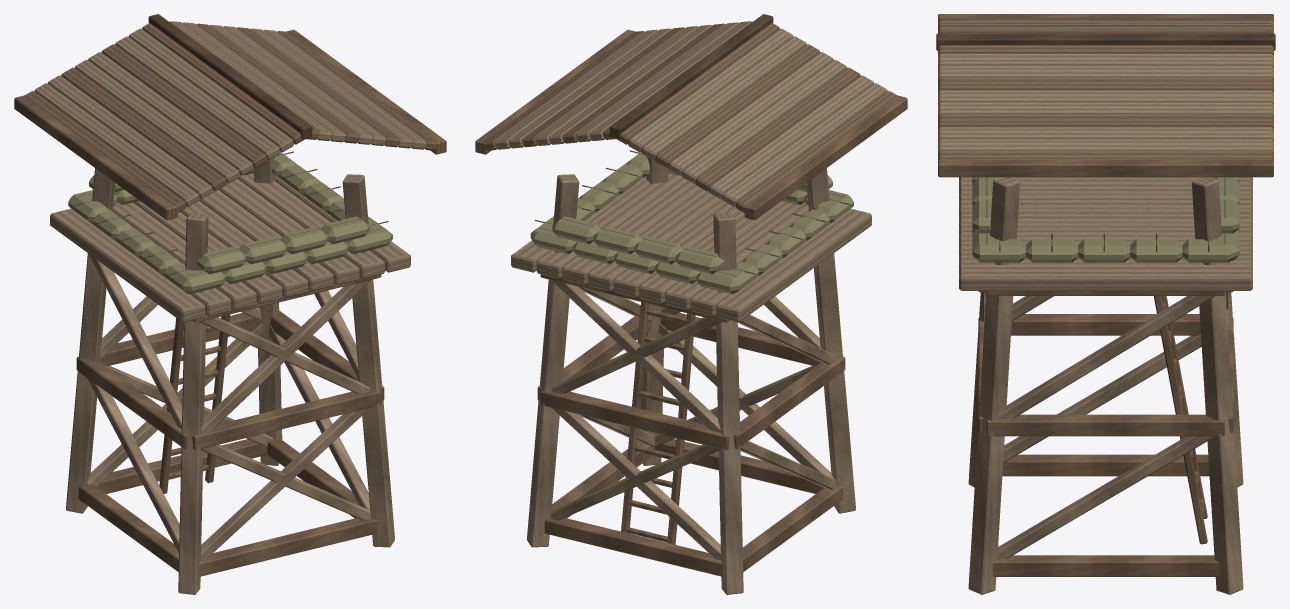
File: watchtower.glb
The picture shows the model from 3 angles, left to right: view 1: azimuth 30°, elevation 25°; view 2: azimuth 150°, elevation 25°; view 3: azimuth 270°, elevation 25°; orthographic projection. The views are drawn at different scales.
Parts seen in each view (by area): view 1: watchtower__Timber_worn_edges, watchtower__Weathered_timber, watchtower__Olive_canvas, watchtower__Dark_endgrain; view 2: watchtower__Timber_worn_edges, watchtower__Weathered_timber, watchtower__Olive_canvas, watchtower__Dark_endgrain; view 3: watchtower__Timber_worn_edges, watchtower__Weathered_timber, watchtower__Olive_canvas, watchtower__Dark_endgrain.
Boxes of the visible parts, box(x1,y1,x2,y2) form: watchtower__Timber_worn_edges: box(34, 21, 426, 594); watchtower__Weathered_timber: box(14, 23, 446, 576); watchtower__Olive_canvas: box(68, 152, 392, 294); watchtower__Dark_endgrain: box(73, 14, 388, 276); watchtower__Timber_worn_edges: box(495, 21, 887, 594); watchtower__Weathered_timber: box(475, 23, 907, 576); watchtower__Olive_canvas: box(530, 152, 853, 294); watchtower__Dark_endgrain: box(534, 14, 849, 276); watchtower__Timber_worn_edges: box(938, 20, 1273, 594); watchtower__Weathered_timber: box(938, 14, 1273, 576); watchtower__Olive_canvas: box(972, 177, 1239, 262); watchtower__Dark_endgrain: box(936, 33, 1275, 251).
Bounding box in the file's own units: 2.19 × 3.4 × 2.08.
4 materials, 3 textured.
